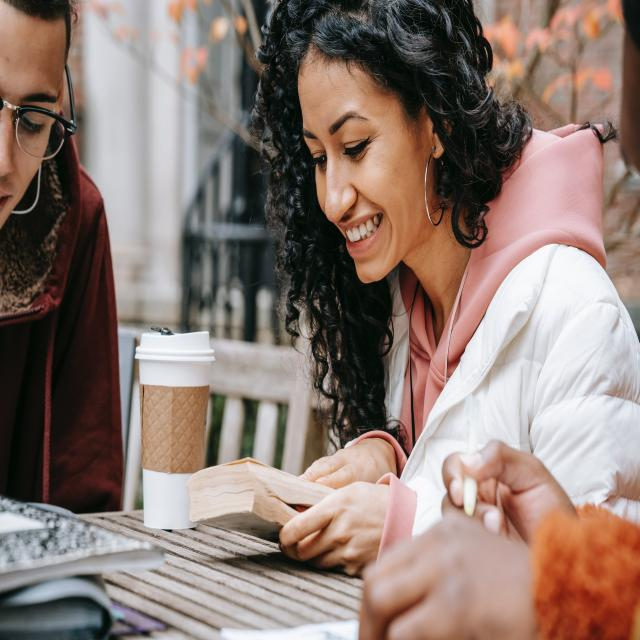cup: (134, 326, 216, 531)
